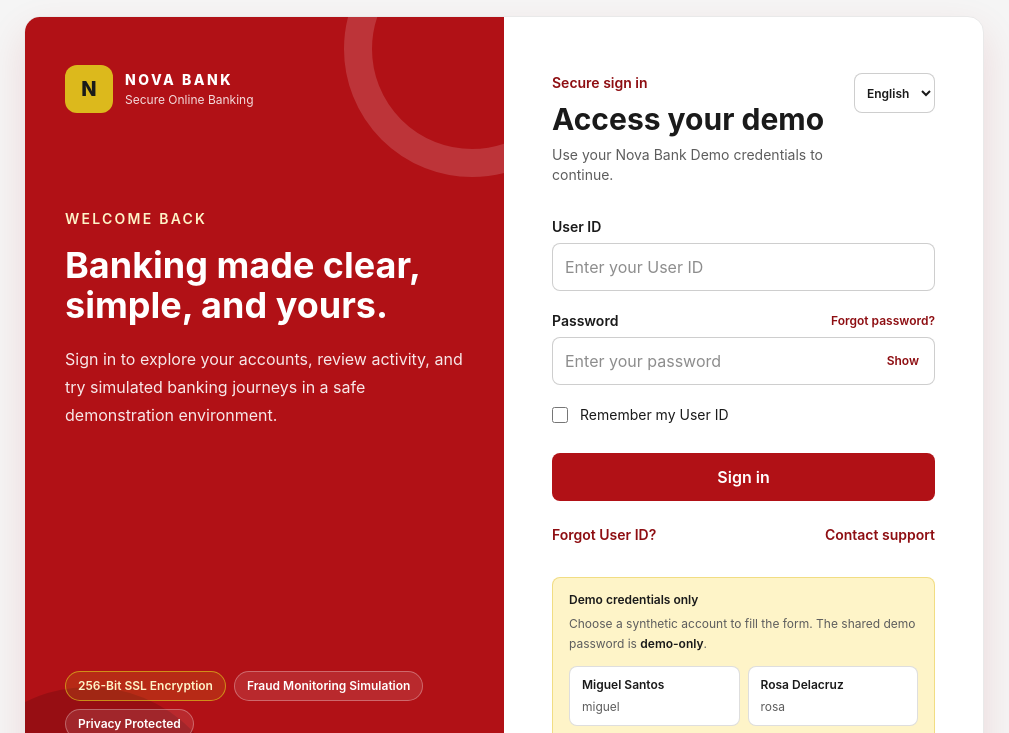
it: LoginPage › shows a required-field error when User ID and password are missing
Click the button "Sign in": click(744, 477) x1=552 y1=453 x2=935 y2=501
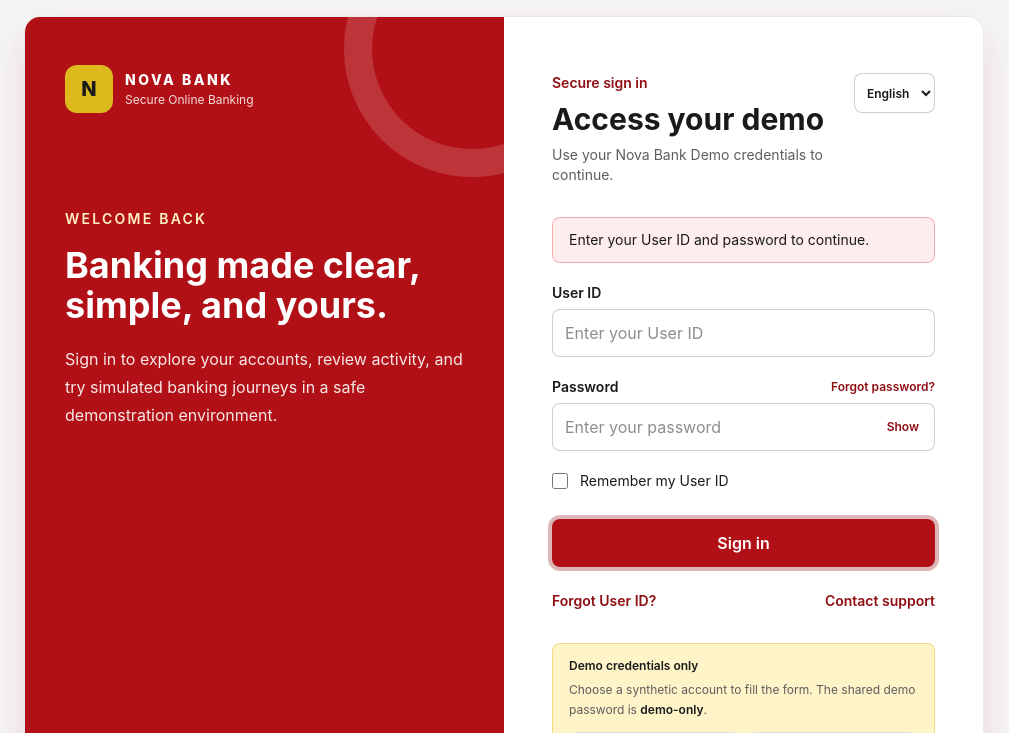
Result: the message reads "Enter your User ID and password to continue." at x1=569 y1=231 x2=869 y2=248
